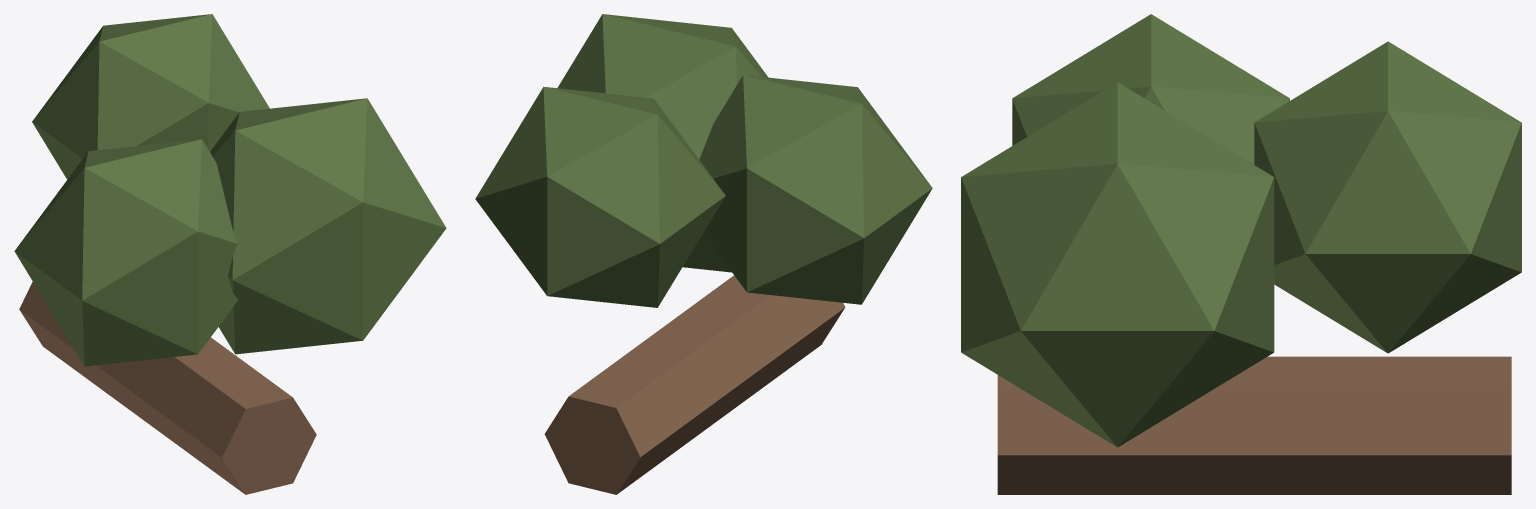
The model's file is tree_s11_11.glb.
The picture shows the model from 3 angles, left to right: view 1: azimuth 30°, elevation 25°; view 2: azimuth 150°, elevation 25°; view 3: azimuth 270°, elevation 25°; orthographic projection. The views are drawn at different scales.
Visible parts, largest first — view 1: geometry_0; view 2: geometry_0; view 3: geometry_0.
Boxes of the visible parts, left/top/right/bottom form: geometry_0: left=14, top=14, right=446, bottom=494; geometry_0: left=475, top=14, right=932, bottom=494; geometry_0: left=961, top=14, right=1521, bottom=494.
Bounding box in the file's own units: 2.56 × 2.39 × 2.83.
